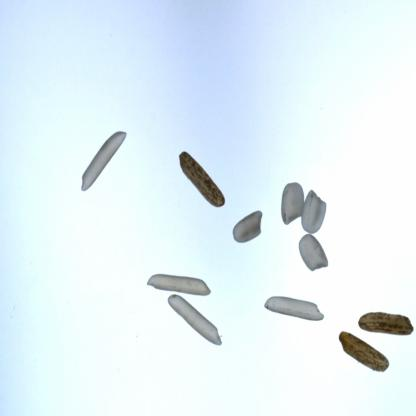Full: (70, 119, 138, 202), (170, 141, 232, 219), (166, 282, 222, 360), (335, 322, 394, 373), (258, 284, 322, 325), (135, 268, 209, 302), (349, 297, 412, 334), (226, 207, 272, 250), (294, 231, 334, 275), (298, 186, 330, 235), (278, 176, 307, 224)
